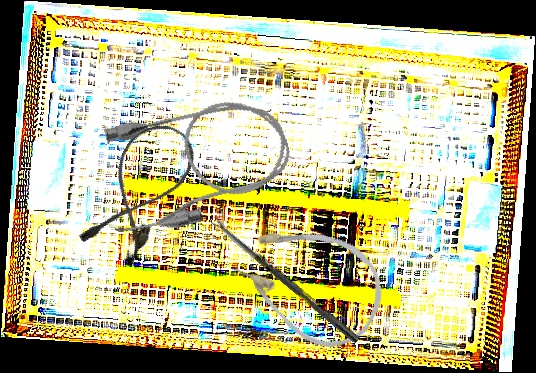Cannula: (91, 86, 301, 243), (218, 199, 400, 364), (74, 110, 205, 271)
Surgical Spoon: (210, 215, 361, 344)
